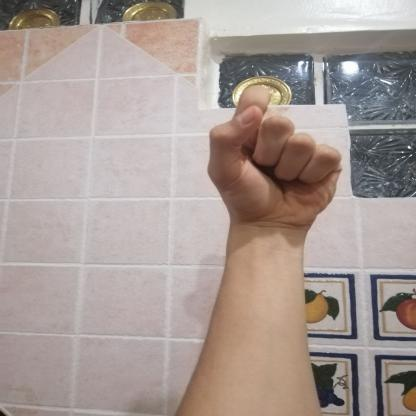FAA: (192, 73, 359, 235)
